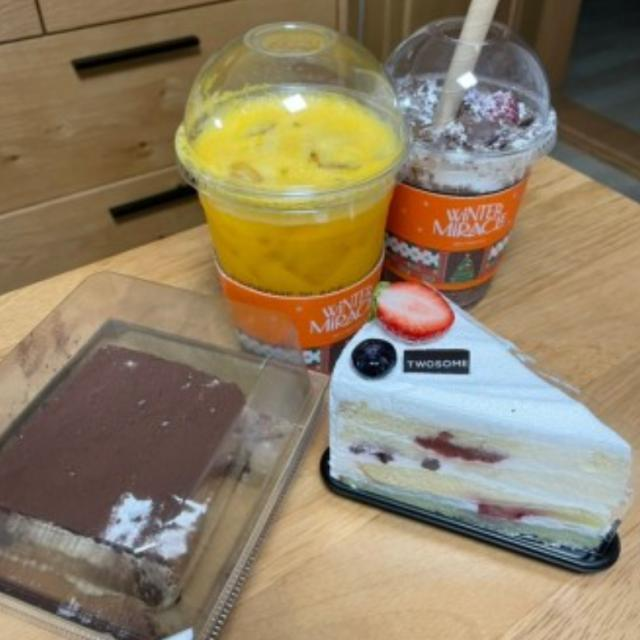bottle: (199, 174, 392, 372), (386, 151, 534, 305)
